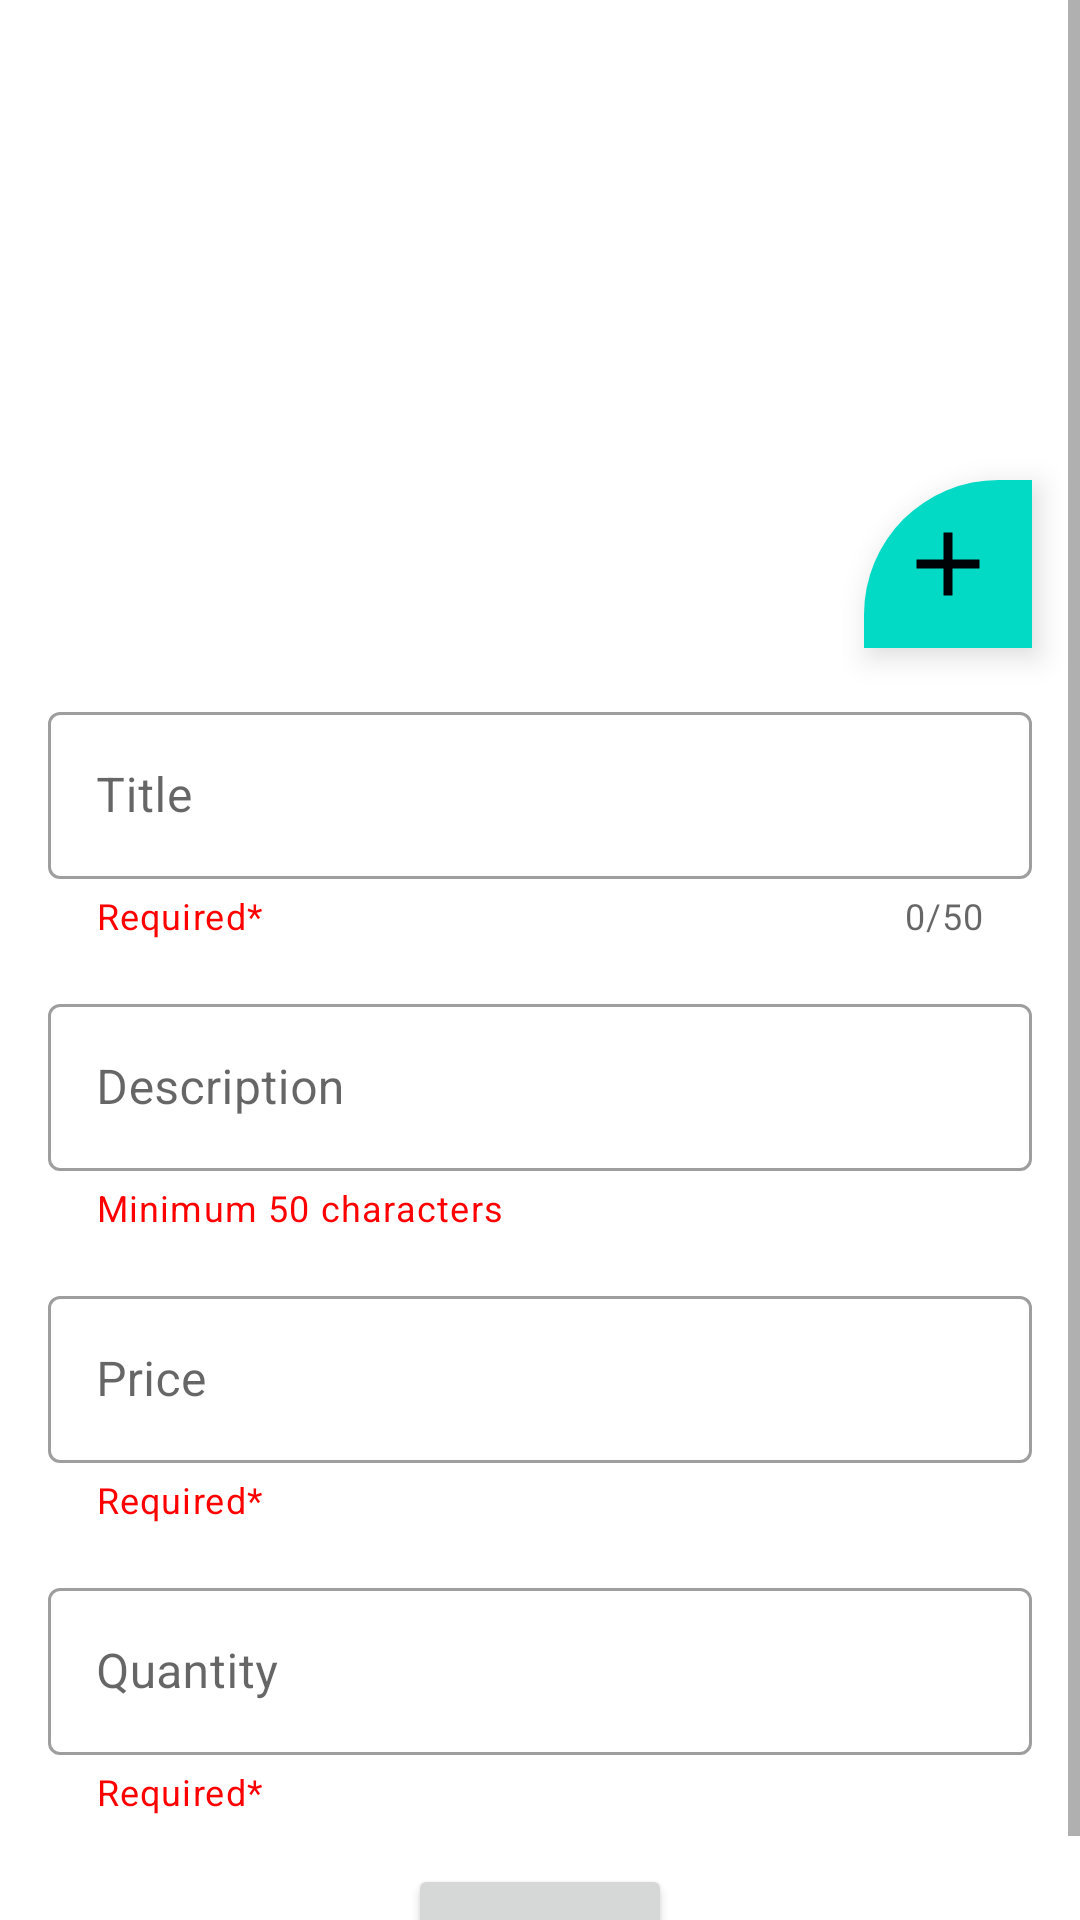

Icon bounding boxes for this 1080 x 1920 phone screenshot, format (x1, y1, x2, y2):
Trigger to select image from Gallery: (864, 480, 1032, 648)
